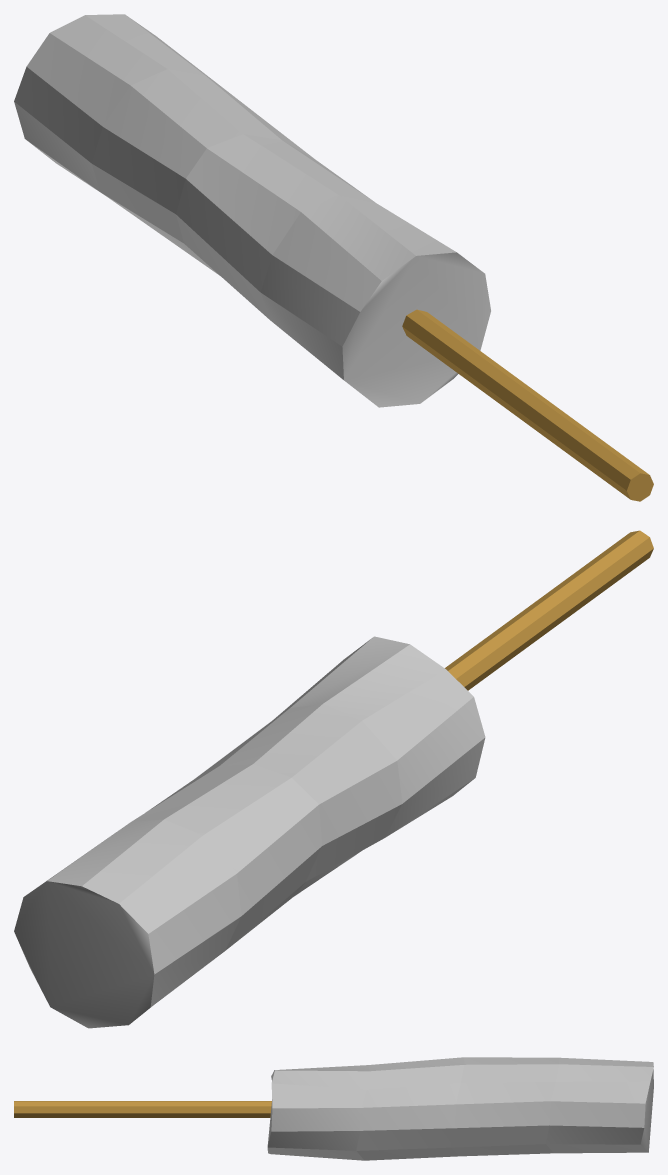
The model's file is rice cake.fbx.
The picture shows the model from 3 angles, top to bottom: view 1: azimuth 30°, elevation 25°; view 2: azimuth 150°, elevation 25°; view 3: azimuth 270°, elevation 25°; orthographic projection. The views are drawn at different scales.
Parts seen in each view (by area): view 1: main, stick; view 2: main, stick; view 3: main, stick.
Boxes of the visible parts, x1,y1,x2,y2 form: main: [14, 14, 490, 407]; stick: [402, 309, 653, 501]; main: [14, 636, 485, 1028]; stick: [445, 530, 653, 690]; main: [267, 1057, 653, 1160]; stick: [14, 1101, 271, 1117].
Size of the model in its own units: 2.79 by 2.67 by 17.55.
